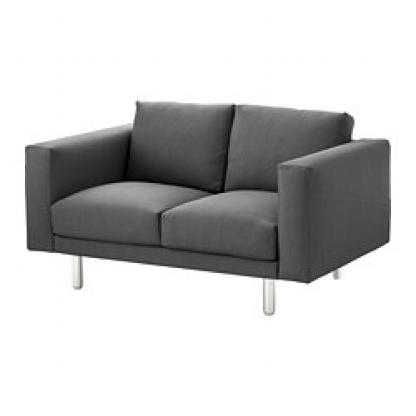Sofa: (17, 70, 394, 323)
